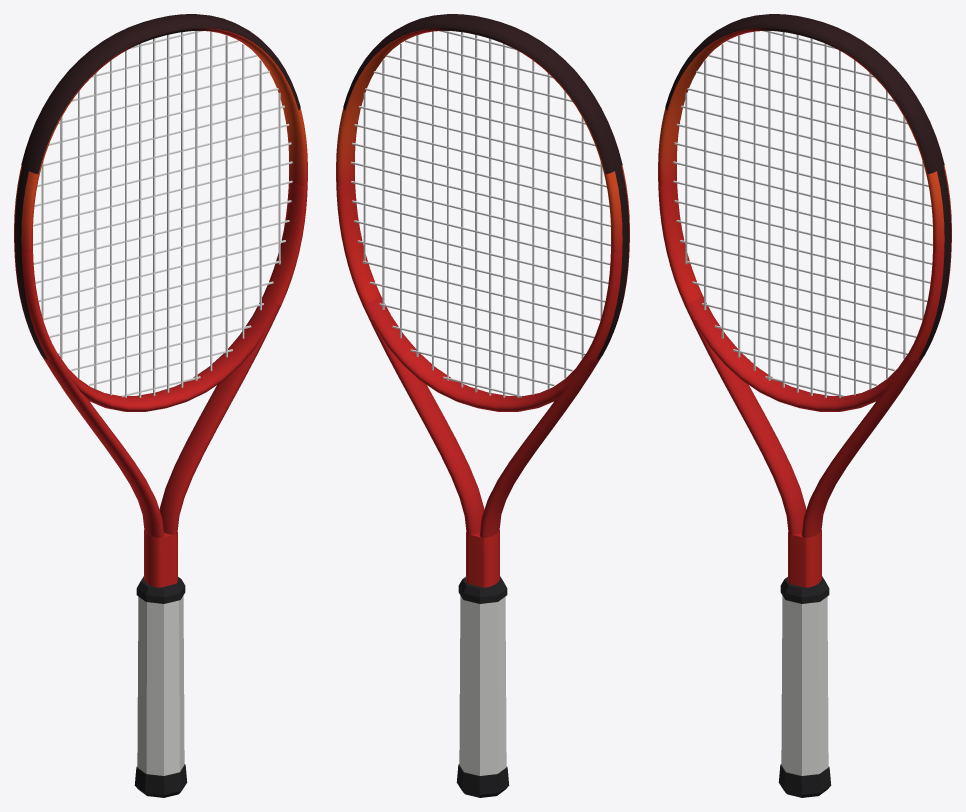
Rendered from dunlop-cx-400-2027.glb.
3 views of the same model, side by side, from view 1: azimuth 30°, elevation 25°; view 2: azimuth 150°, elevation 25°; view 3: azimuth 330°, elevation 25° (orthographic).
Parts seen in each view (by area): view 1: frame, strings_mains, strings_crosses, grip, bumper, grommets, butt_cap, collar; view 2: frame, strings_mains, strings_crosses, grip, bumper, grommets, butt_cap, collar; view 3: frame, strings_mains, strings_crosses, grip, bumper, grommets, butt_cap, collar.
Boxes of the visible parts, x1,y1,x2,y2 form: frame: (14,28,307,587); strings_mains: (41,31,280,397); strings_crosses: (33,31,292,397); grip: (137,595,184,775); bumper: (21,14,300,173); grommets: (14,166,47,359); butt_cap: (134,764,187,797); collar: (136,576,185,603); frame: (336,28,629,587); strings_mains: (363,31,602,397); strings_crosses: (350,31,610,397); grip: (459,595,506,775); bumper: (343,14,622,173); grommets: (596,166,629,359); butt_cap: (456,764,509,797); collar: (458,576,507,603); frame: (658,28,951,587); strings_mains: (685,31,924,397); strings_crosses: (673,31,932,397); grip: (781,595,828,775); bumper: (665,14,944,173); grommets: (918,166,951,359); butt_cap: (778,764,831,797); collar: (780,576,829,603).
Bounding box in the file's own units: 0.2687 × 0.6861 × 0.0396.
